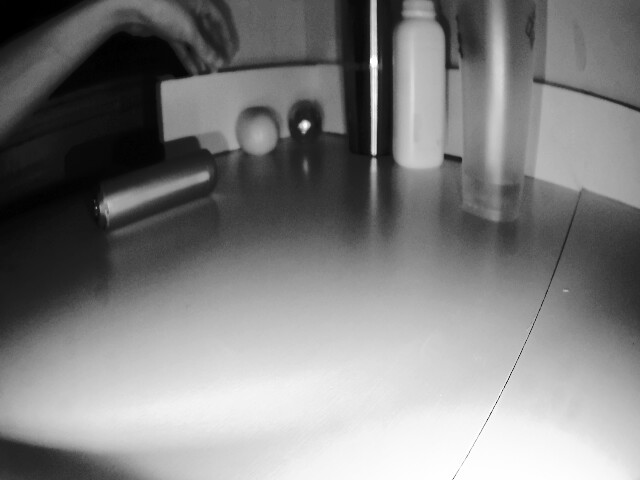black: (291, 102, 324, 153)
